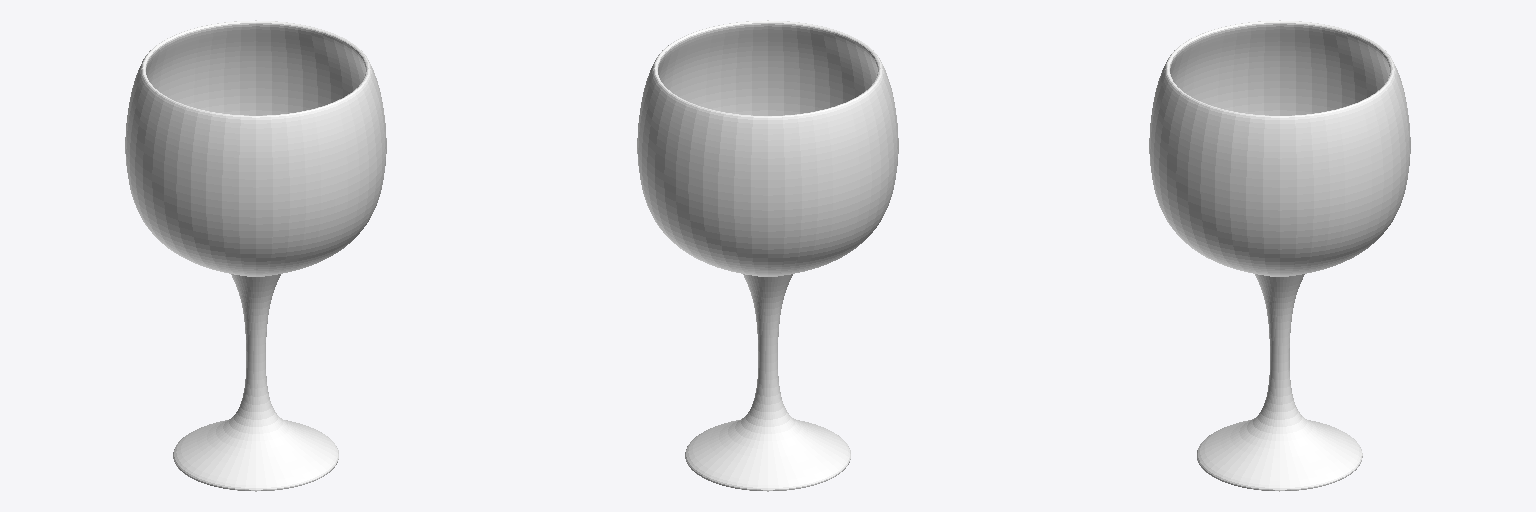
URDF robot description (apple):
<?xml version="0.0" ?>
<robot name="apple">
  <link name="baseLink">
    <contact>
      <lateral_friction value="1.0"/>
      <rolling_friction value="0.0"/>
      <contact_cfm value="0.0"/>
      <contact_erp value="1.0"/>
    </contact>
    <inertial>
      <origin rpy="1.57 0 0" xyz="0 0 -0.0"/>
       <mass value=".1"/>
       <inertia ixx="1" ixy="0" ixz="0" iyy="1" iyz="0" izz="1"/>
    </inertial>
    <visual>
      <origin rpy="1.57 0 0" xyz="0 0 0"/>
      <geometry>
        <mesh filename="meshes/notextures/glass4.obj" scale="0.08 0.08 0.08"/>
      </geometry>
      <material name="glass">
        <color rgba="1 1 1 1"/>
      </material>
    </visual>
    <collision>
      <origin rpy="1.57 0 0" xyz="0 0 0"/>
      <geometry>
	 	<mesh filename="meshes/notextures/glass4.obj" scale="0.08 0.08 0.08"/>
      </geometry>
    </collision>
  </link>
</robot>

--- What the picture shows (computed from the rendered views, not written in the file) ---
3 views of the same robot in one strip: view 1: azimuth 30°, elevation 25°; view 2: azimuth 150°, elevation 25°; view 3: azimuth 270°, elevation 25° (orthographic).
Model apple with 1 links and 0 joints (none), rooted at baseLink, posed all joints at 0.
Links seen in each view (by area): view 1: baseLink; view 2: baseLink; view 3: baseLink.
Boxes of the visible links, x1=… form: baseLink: x1=125, y1=20, x2=386, y2=491; baseLink: x1=637, y1=20, x2=898, y2=491; baseLink: x1=1149, y1=20, x2=1410, y2=491.
Bounding box of the posed robot: 0.0841 × 0.0841 × 0.1385 m (x, y, z).
Meshes: 1 distinct files referenced, 1 mesh visuals loaded (1 OBJ).